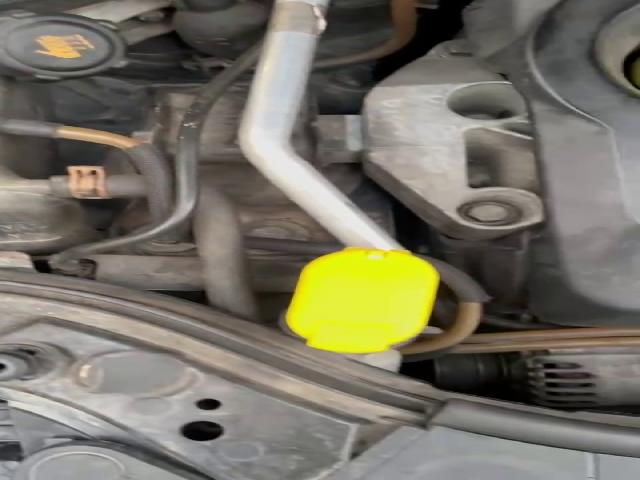antifreeze_tank: (0, 10, 126, 120), (0, 134, 99, 254)
